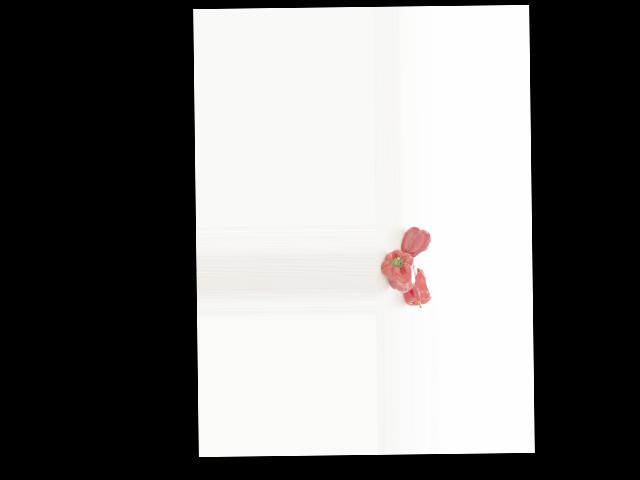bell_pepper: (399, 224, 431, 255)
